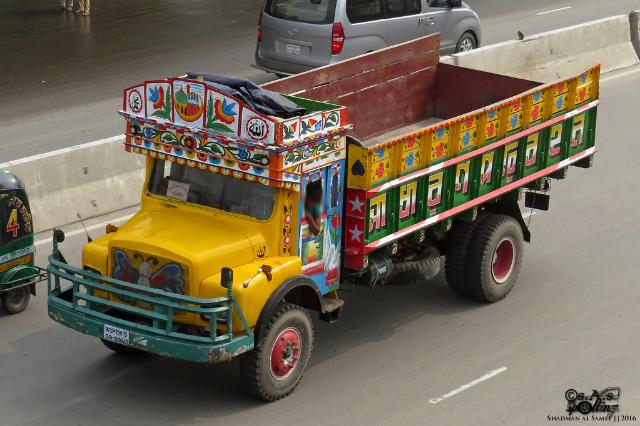truck: (37, 37, 602, 376)
van: (252, 0, 489, 83)
